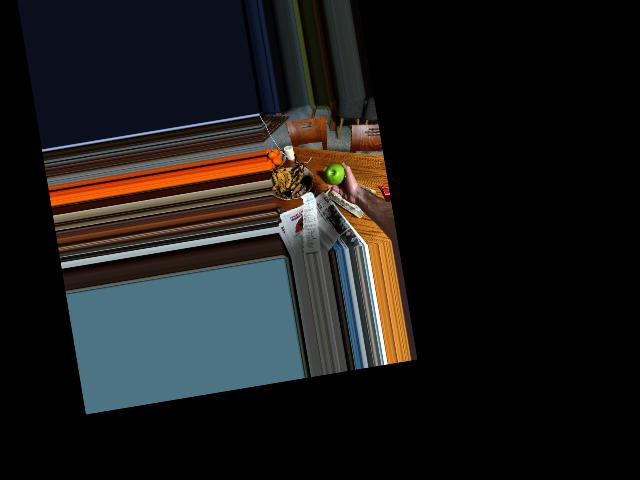apple: (322, 160, 345, 191)
